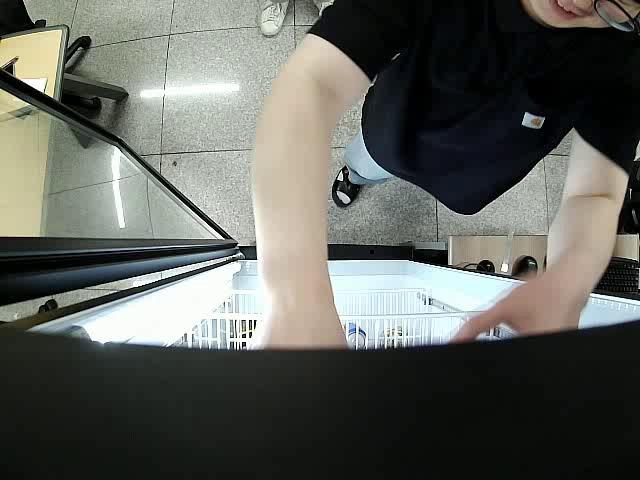00_hand: (445, 278, 576, 340)
